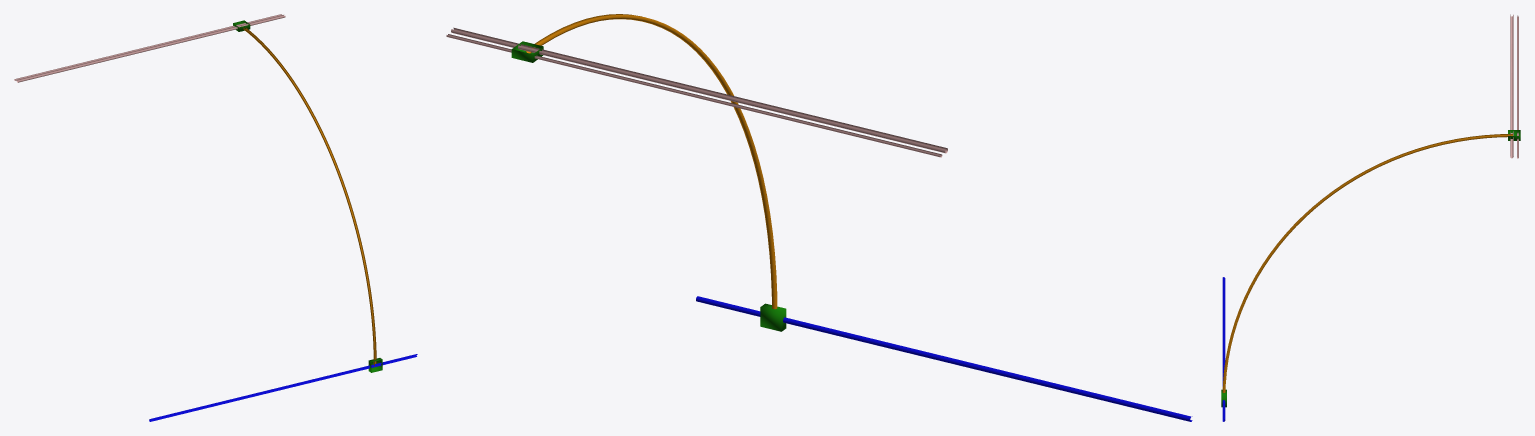
File: Arc_Pipes.FBX
The picture shows the model from 3 angles, left to right: view 1: azimuth 30°, elevation 25°; view 2: azimuth 150°, elevation 25°; view 3: azimuth 270°, elevation 25°; orthographic projection. The views are drawn at different scales.
Parts seen in each view (by area): view 1: Arc_Pipes; view 2: Arc_Pipes; view 3: Arc_Pipes.
Boxes of the visible parts, left/top/right/bottom form: Arc_Pipes: left=14, top=14, right=417, bottom=421; Arc_Pipes: left=446, top=14, right=1192, bottom=421; Arc_Pipes: left=1221, top=14, right=1520, bottom=421.
Bounding box in the file's own units: 5 × 4.45 × 4.46.
